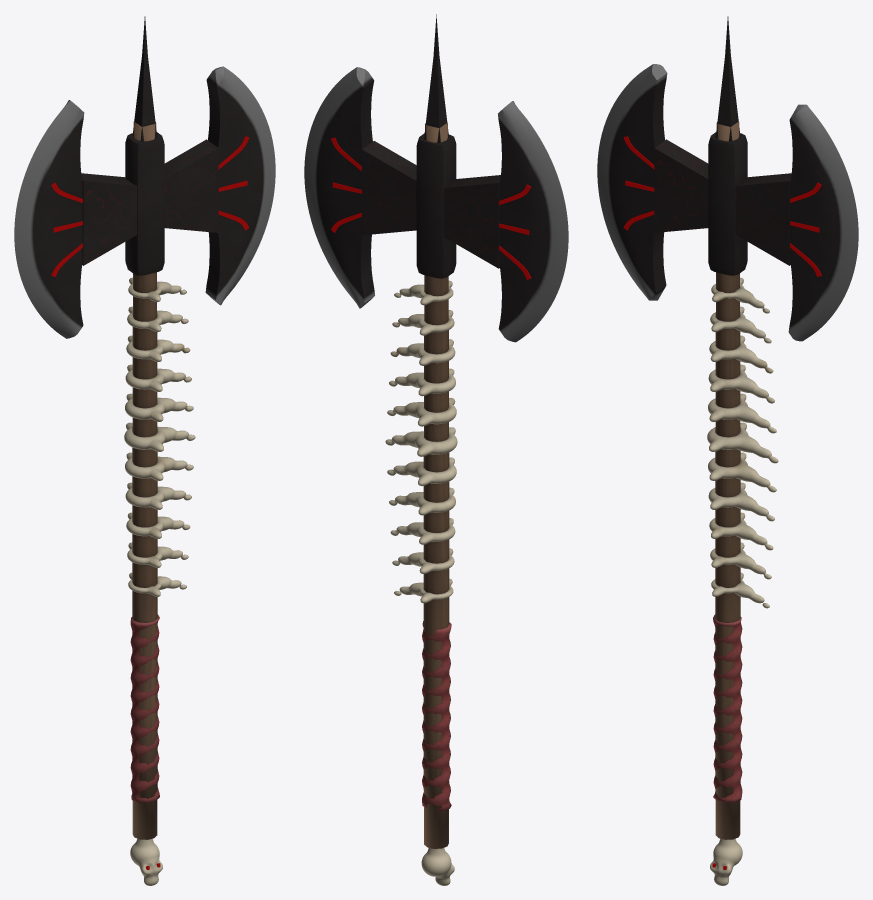
The model's file is named-life-drinker.glb.
3 views of the same model, side by side, from view 1: azimuth 30°, elevation 25°; view 2: azimuth 150°, elevation 25°; view 3: azimuth 330°, elevation 25° (orthographic).
Visible parts, largest first — view 1: named-life-drinker; view 2: named-life-drinker; view 3: named-life-drinker.
Boxes of the visible parts, left/top/right/bottom form: named-life-drinker: left=14, top=16, right=275, bottom=885; named-life-drinker: left=304, top=14, right=568, bottom=885; named-life-drinker: left=597, top=16, right=858, bottom=885.
Bounding box in the file's own units: 1.16 × 3.67 × 0.2678.
1 material, 1 textured.
